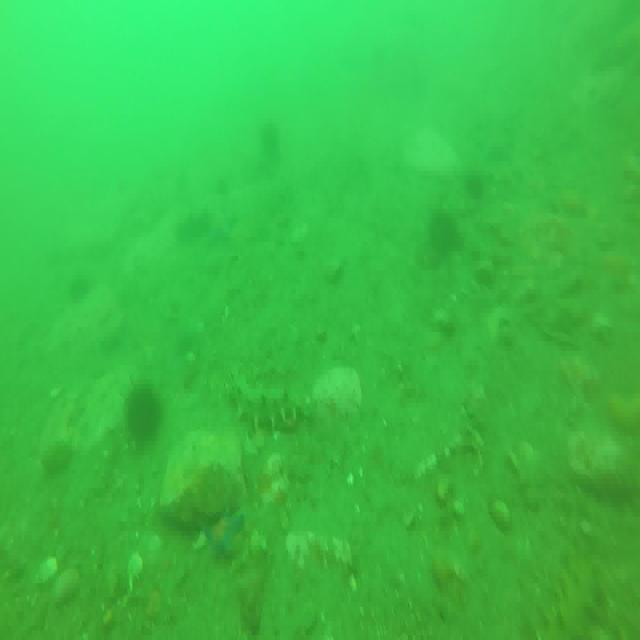echinus: (128, 382, 164, 443), (429, 206, 459, 254), (68, 270, 92, 302)
holothurian: (231, 367, 307, 427), (537, 570, 599, 640)
starfish: (206, 509, 246, 558), (603, 248, 635, 292), (206, 201, 237, 245)
